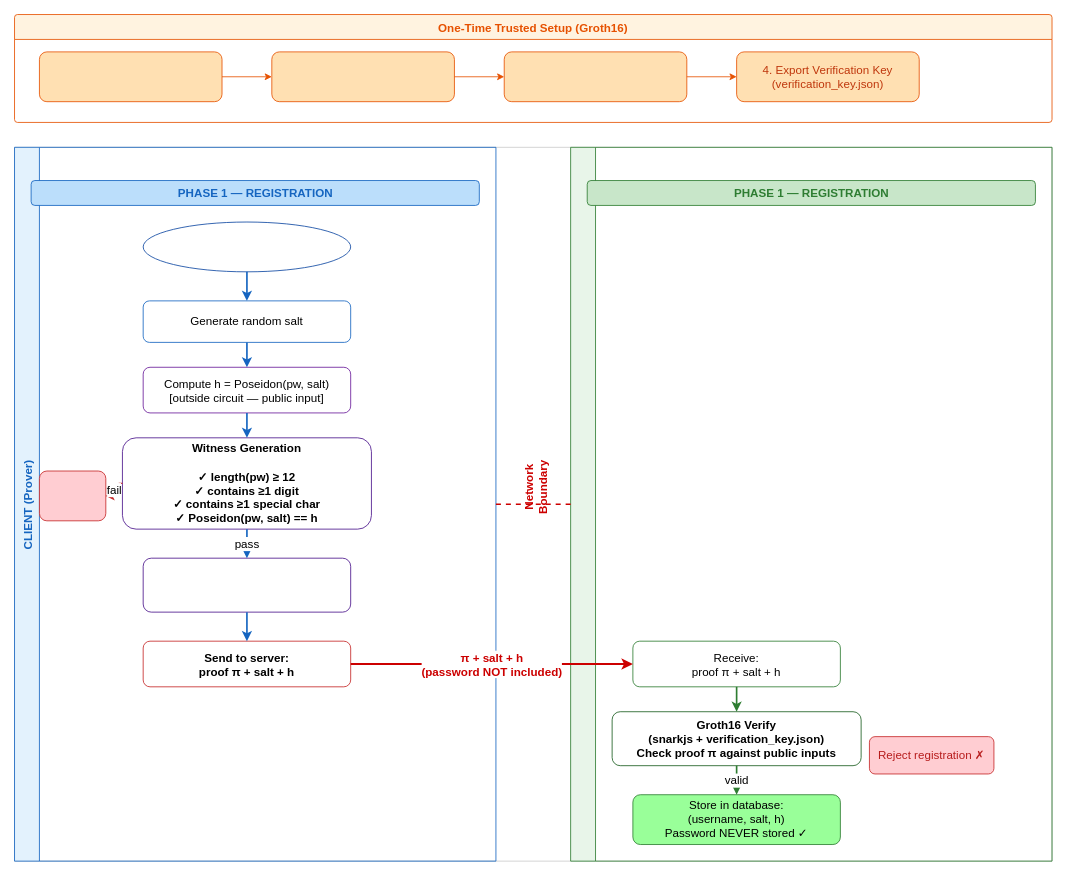
Image size: 1067x876. Some labels were removed from this diagram. Here are the shapes that lost their labels. From the top down, the box of each, then its label:
(39, 51, 222, 102): 1. Compile Circuit (circom password_policy.circom)
(271, 51, 454, 102): 2. Powers of Tau Ceremony (snarkjs powersoftau)
(503, 51, 687, 102): 3. Generate Circuit zkey (snarkjs groth16 setup)
(142, 221, 351, 272): User enters username + password (locally, never transmitted)
(39, 470, 106, 521): Policy failed Registration rejected ✗
(570, 146, 1052, 861): SERVER (Verifier)
(142, 557, 351, 612): Groth16 Prove (snarkjs + proving key) → generates proof π
